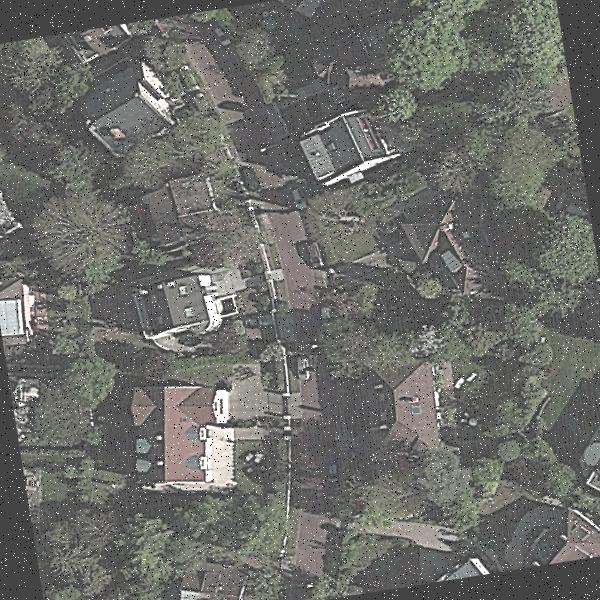Buildings: (136, 382, 244, 498), (403, 196, 497, 302), (88, 70, 174, 148), (361, 368, 441, 442), (138, 276, 223, 340), (529, 498, 600, 566), (305, 118, 376, 174), (181, 564, 259, 600), (151, 178, 202, 233), (0, 277, 33, 347), (440, 548, 497, 581), (591, 421, 600, 488)
